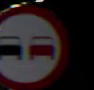No overtake: (0, 3, 71, 85)
